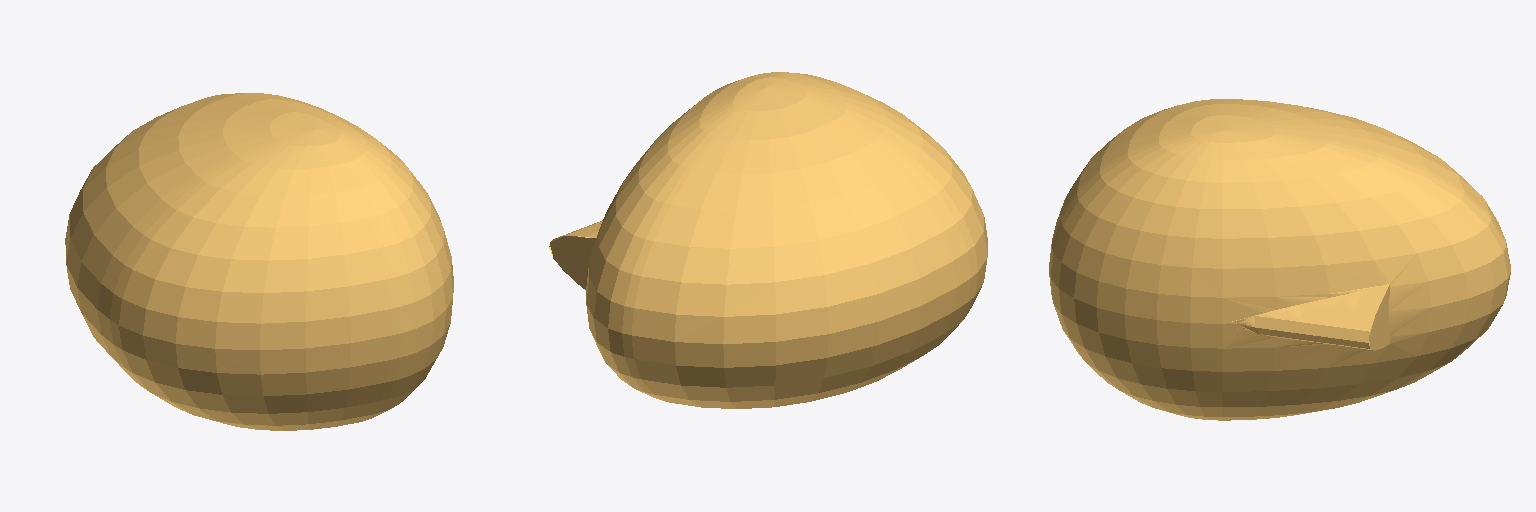
Rendered from HEAD2.obj.
The picture shows the model from 3 angles: view 1: azimuth 30°, elevation 25°; view 2: azimuth 150°, elevation 25°; view 3: azimuth 270°, elevation 25°; orthographic projection.
Parts seen in each view (by area): view 1: Brep__0; view 2: Brep__0; view 3: Brep__0.
Boxes of the visible parts, x1,y1,x2,y2 form: Brep__0: [65, 93, 453, 430]; Brep__0: [549, 72, 987, 408]; Brep__0: [1049, 99, 1510, 420].
Bounding box in the file's own units: 0.1809 × 0.1385 × 0.2073.